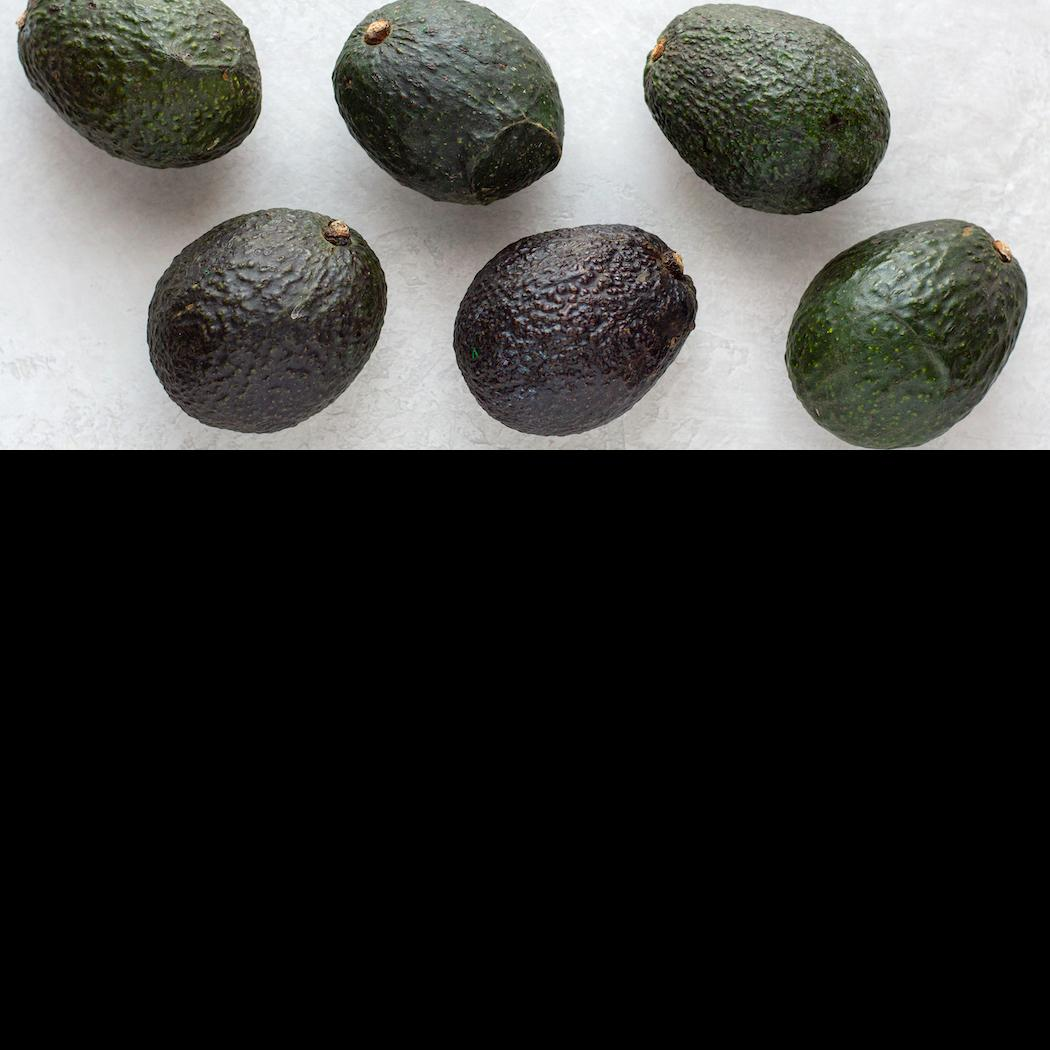almost: (331, 1, 565, 205)
ripe: (146, 208, 387, 433), (453, 224, 698, 436)
unripe: (784, 219, 1027, 449), (643, 4, 891, 216), (15, 1, 262, 169)
